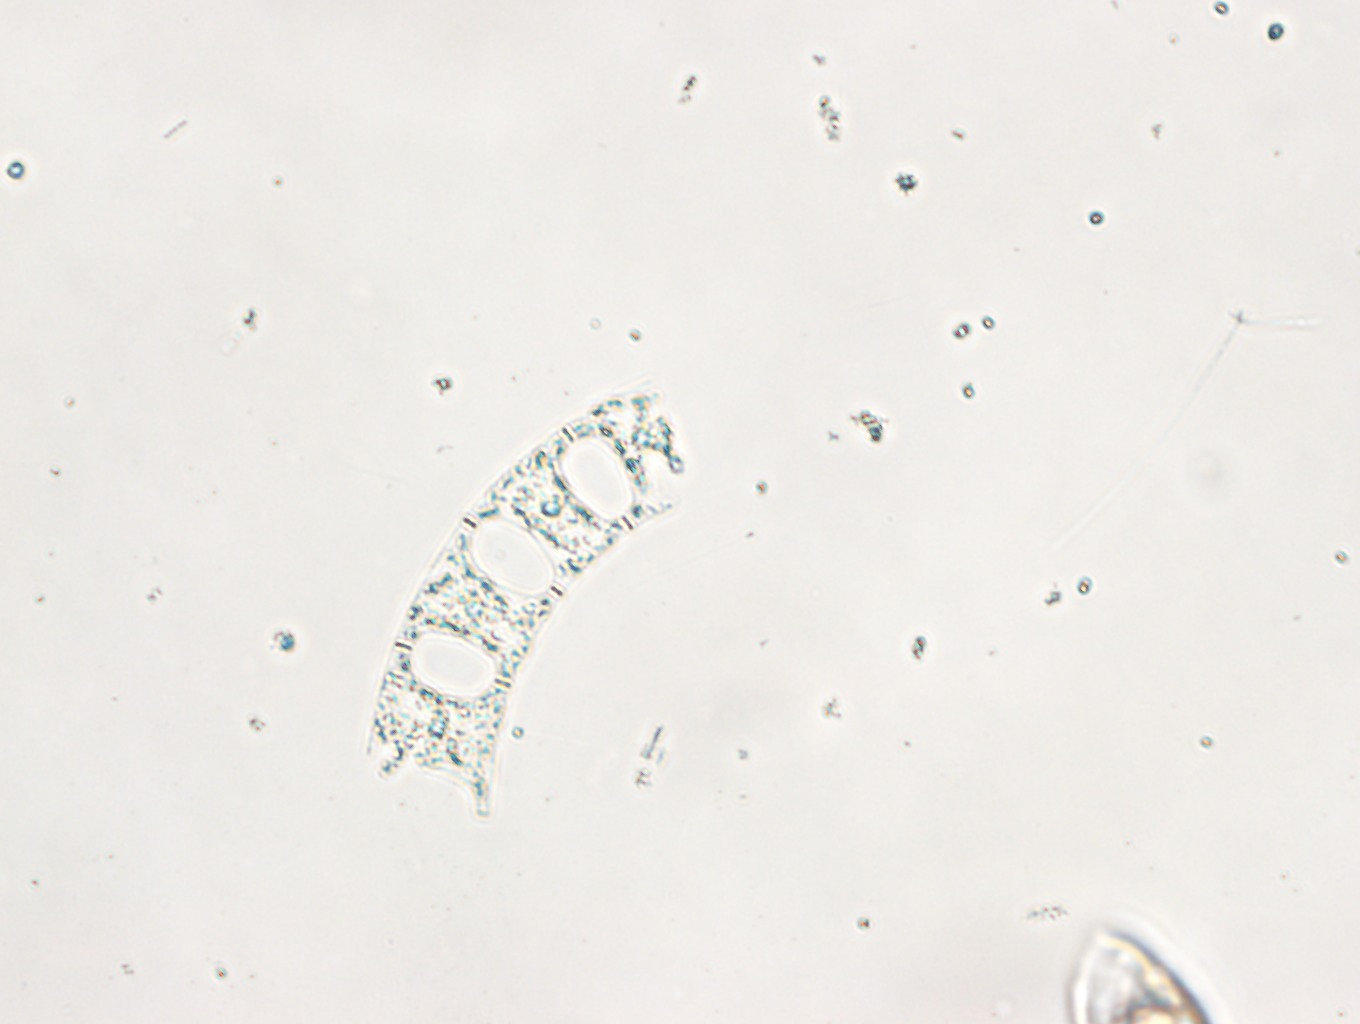eucampia: (366, 380, 690, 820)
